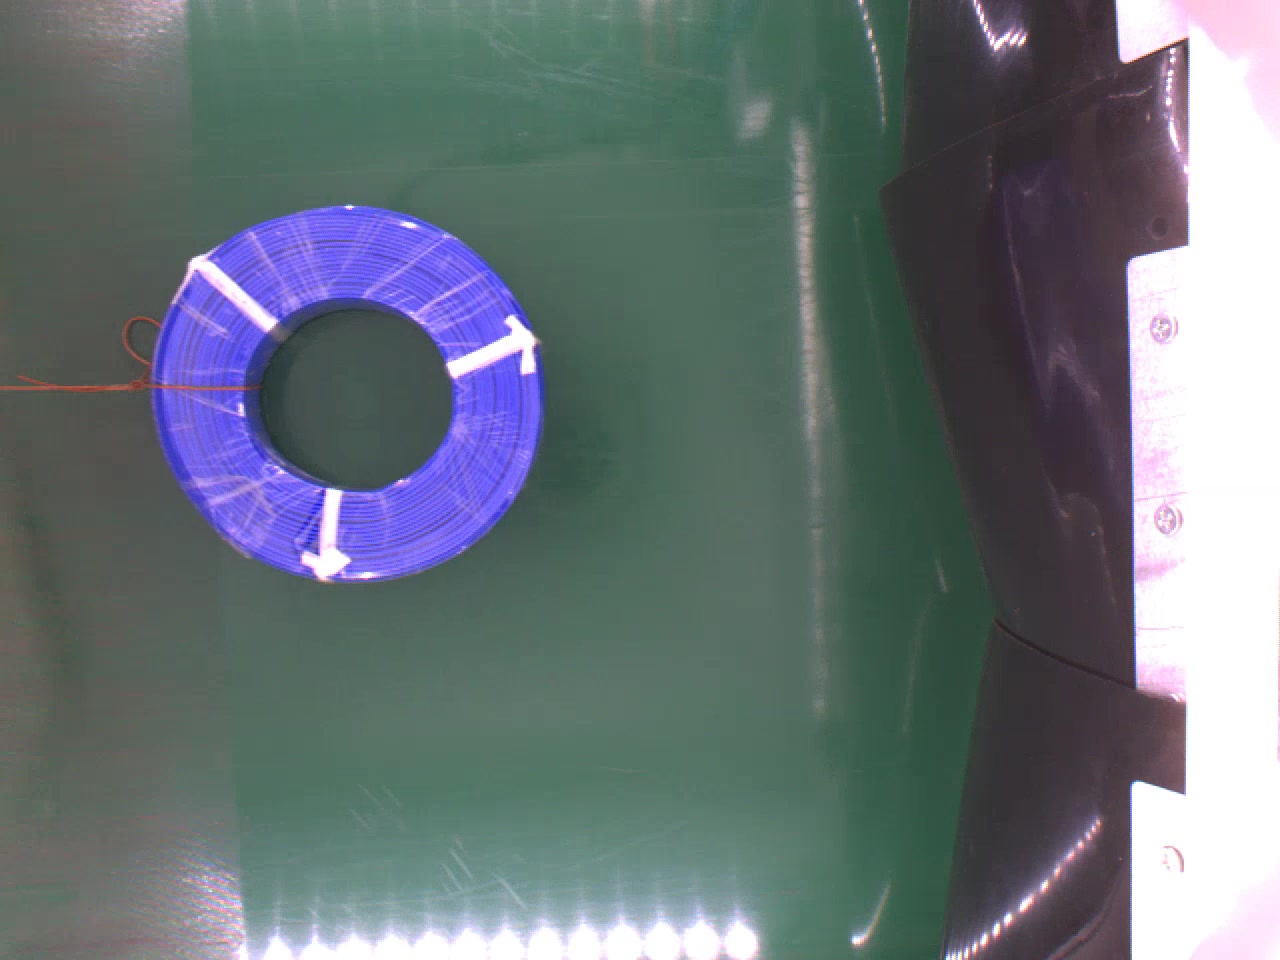blue: (153, 199, 546, 574)
